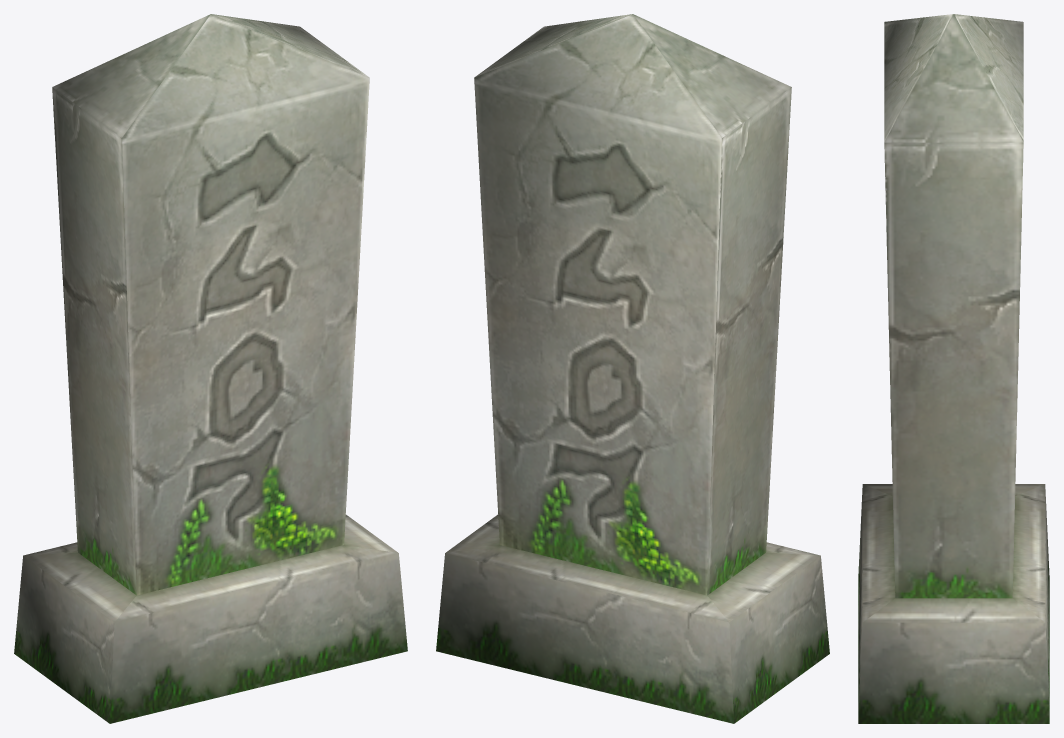
The model's file is xx_shizhu3.FBX.
The picture shows the model from 3 angles, left to right: view 1: azimuth 30°, elevation 25°; view 2: azimuth 150°, elevation 25°; view 3: azimuth 270°, elevation 25°; orthographic projection.
Parts seen in each view (by area): view 1: xx_shizhu3; view 2: xx_shizhu3; view 3: xx_shizhu3.
Boxes of the visible parts, <box> form: xx_shizhu3: <box>14,14,407,723</box>; xx_shizhu3: <box>436,14,829,723</box>; xx_shizhu3: <box>858,14,1049,723</box>.
Bounding box in the file's own units: 10.16 × 20.81 × 5.67.
